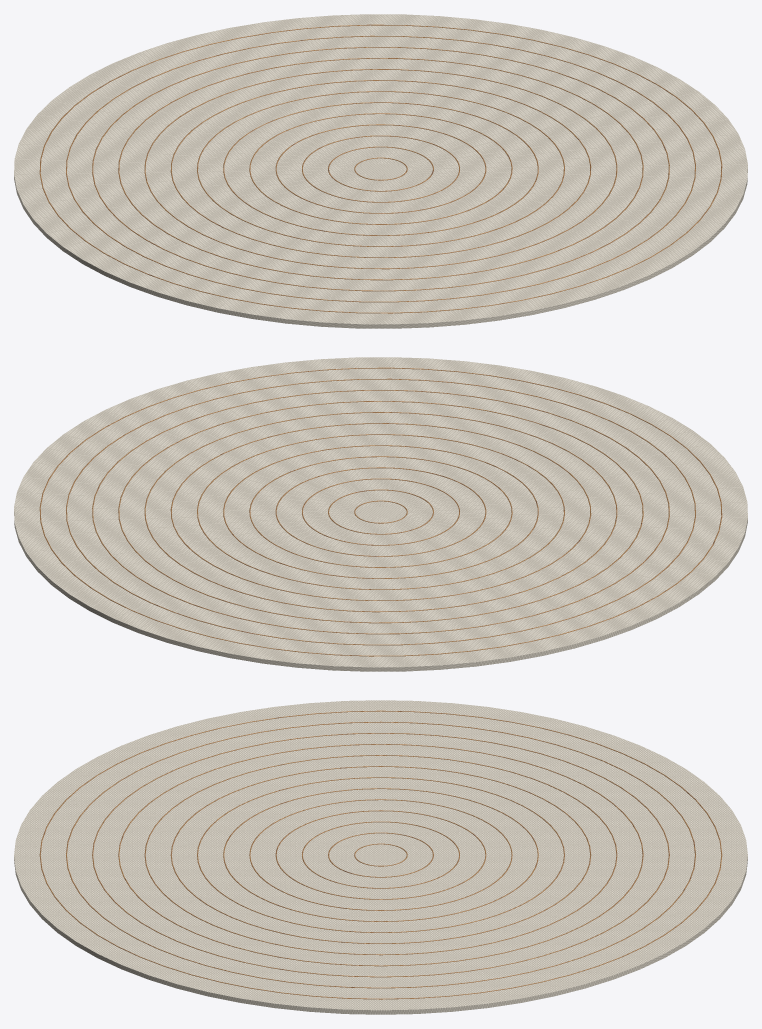
The model's file is alfombra_yute_redonda_base.glb.
3 renders of one model, top to bottom at view 1: azimuth 30°, elevation 25°; view 2: azimuth 150°, elevation 25°; view 3: azimuth 270°, elevation 25°, orthographic.
Parts seen in each view (by area): view 1: alfombra_yute_redonda_base; view 2: alfombra_yute_redonda_base; view 3: alfombra_yute_redonda_base.
Boxes of the visible parts, x1=… form: alfombra_yute_redonda_base: x1=14, y1=14, x2=747, y2=328; alfombra_yute_redonda_base: x1=14, y1=357, x2=747, y2=671; alfombra_yute_redonda_base: x1=14, y1=700, x2=747, y2=1014.
Bounding box in the file's own units: 1.8 × 0.0134 × 1.8.
2 materials, 2 textured.
